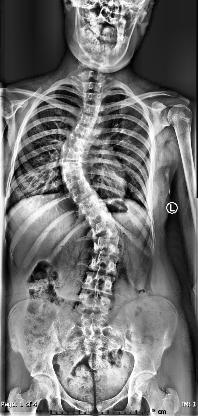Vertebrae: (84, 272, 118, 296), (78, 291, 112, 313), (94, 235, 124, 255), (90, 218, 120, 236), (67, 181, 93, 201), (91, 256, 119, 274), (78, 192, 100, 214), (83, 202, 109, 220), (76, 126, 100, 142), (80, 115, 104, 130), (71, 136, 93, 152), (64, 172, 86, 186), (62, 160, 86, 172), (65, 146, 85, 160), (82, 104, 104, 116)
